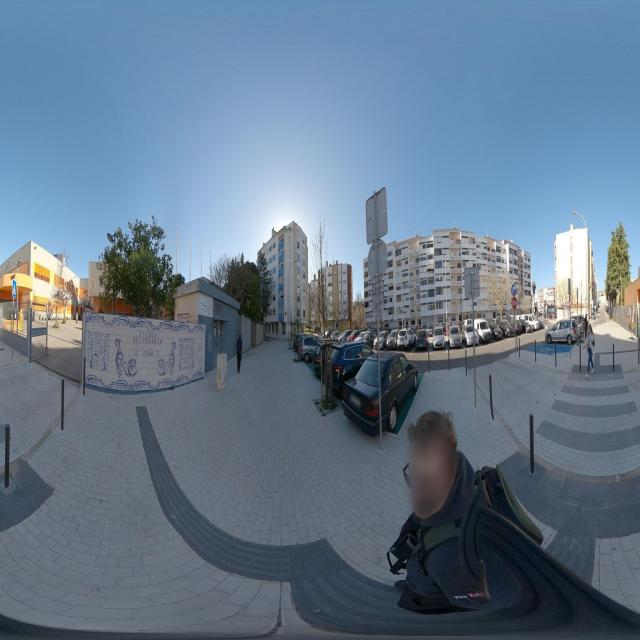car: (342, 352, 420, 434), (323, 341, 366, 385), (312, 339, 340, 378), (544, 318, 580, 345), (432, 324, 462, 350), (298, 333, 319, 363), (461, 322, 481, 347), (475, 320, 493, 344), (414, 329, 431, 352), (393, 328, 409, 350), (489, 321, 503, 341), (499, 320, 514, 338), (517, 315, 529, 334), (513, 316, 524, 336), (528, 316, 538, 332)
